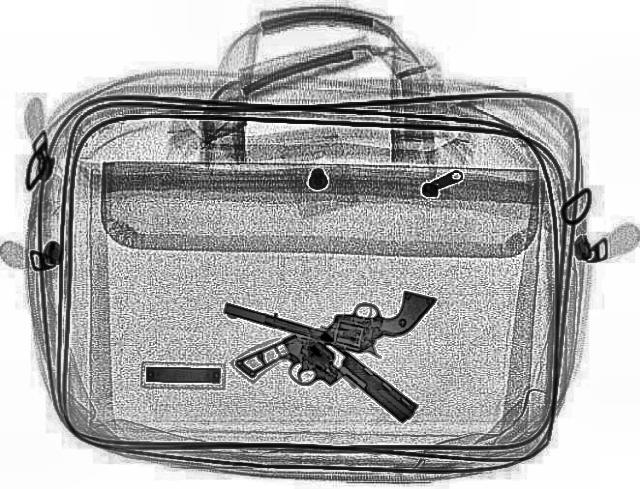Gun: (229, 316, 423, 456), (218, 248, 436, 364)
